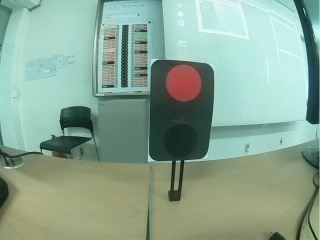red_light: (151, 51, 210, 157)
